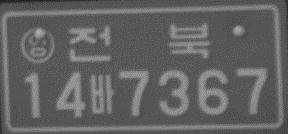1: (18, 71, 49, 118)
3: (157, 69, 190, 117)
4: (55, 71, 85, 118)
6: (196, 66, 229, 116)
7: (235, 66, 269, 115), (119, 69, 150, 118)
바: (89, 72, 115, 115)
영: (18, 26, 55, 65)
전북_D: (67, 22, 211, 63)
